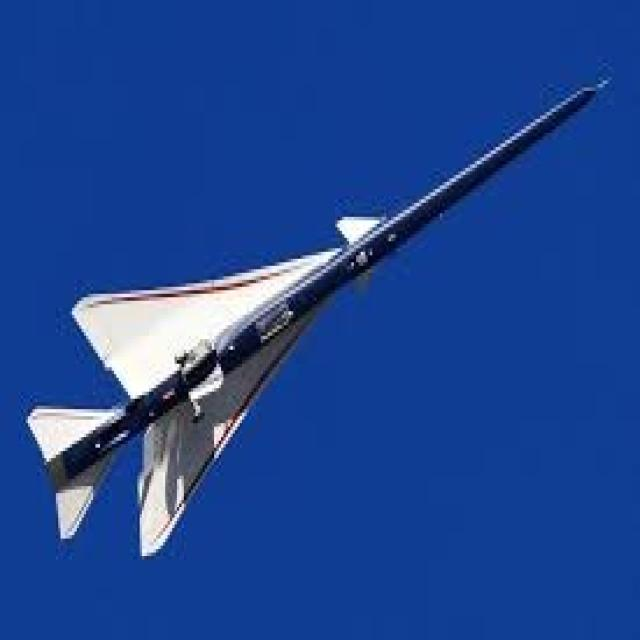jet: (26, 65, 640, 611)
